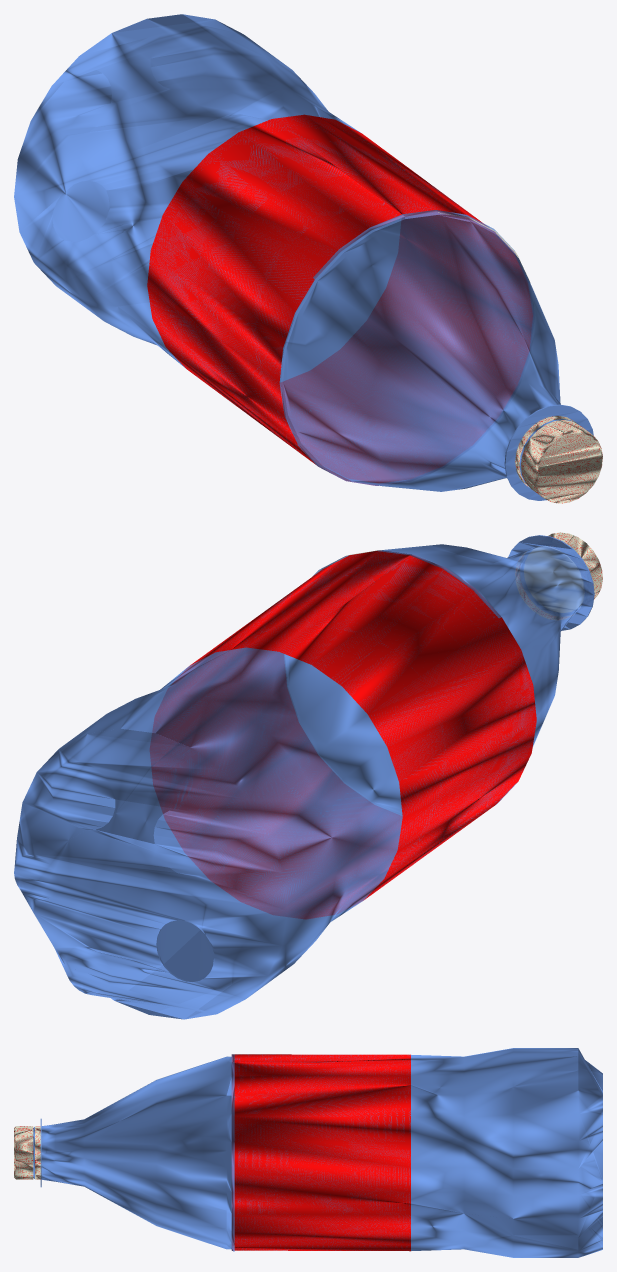
Rendered from model_align.obj.
3 views of the same model, one above another, from view 1: azimuth 30°, elevation 25°; view 2: azimuth 150°, elevation 25°; view 3: azimuth 270°, elevation 25° (orthographic). The views are drawn at different scales.
Size of the model in its own units: 0.0721 by 0.0721 by 0.2012.
